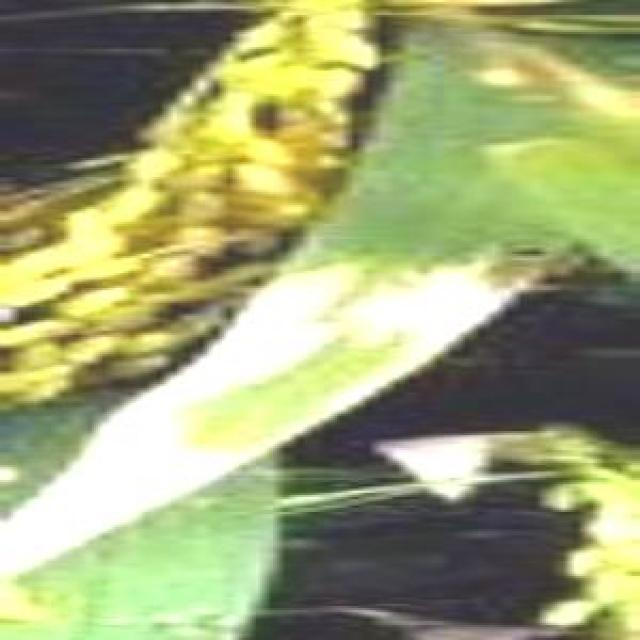Rice_Bacterial_Blight: (162, 252, 487, 442)
